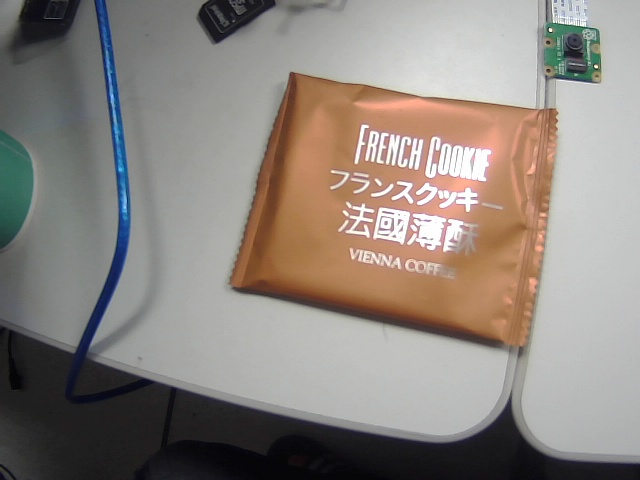frenchcookie: (233, 67, 562, 372)
